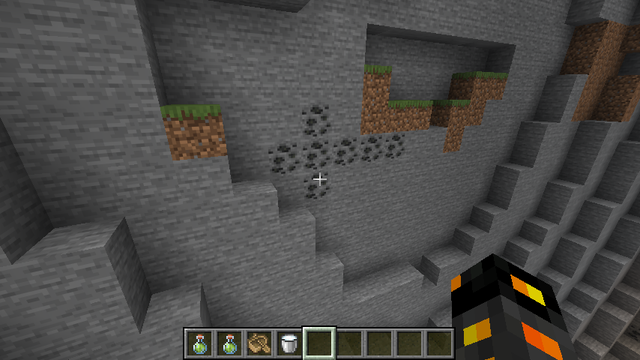coal: (266, 103, 407, 199)
